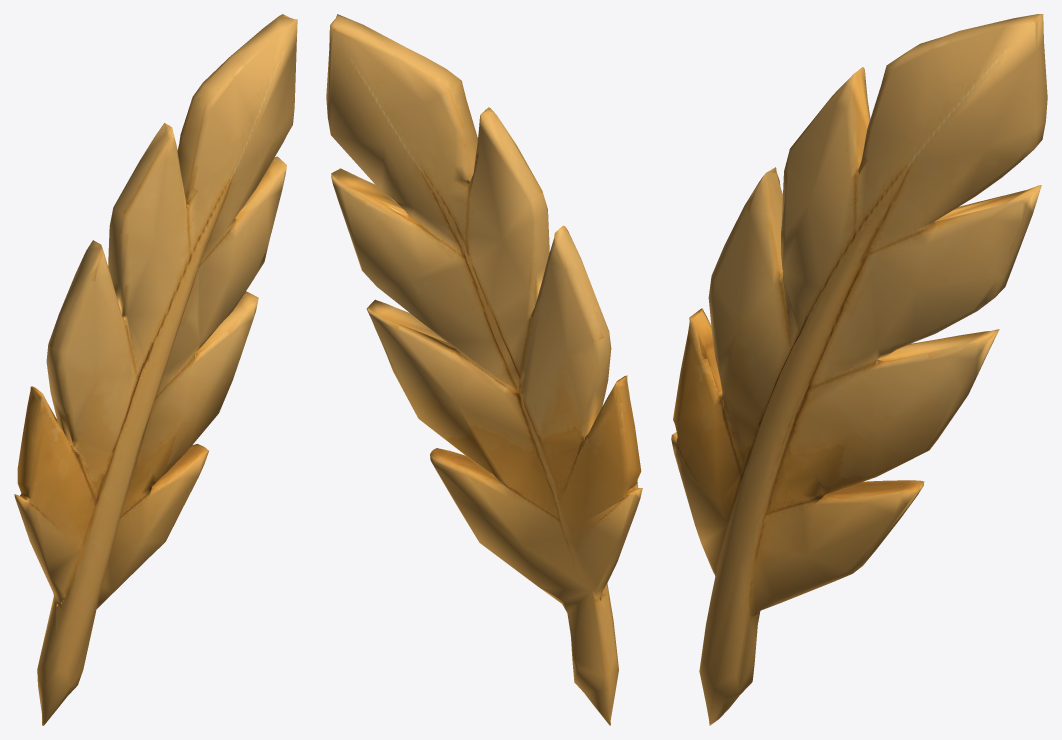
Rendered from lisc.glb.
3 views of the same model, side by side, from view 1: azimuth 30°, elevation 25°; view 2: azimuth 150°, elevation 25°; view 3: azimuth 330°, elevation 25° (orthographic). The views are drawn at different scales.
Visible parts, largest first — view 1: tripo_node_07d2967d-9c3e-4423-b5ef-89c811874c28; view 2: tripo_node_07d2967d-9c3e-4423-b5ef-89c811874c28; view 3: tripo_node_07d2967d-9c3e-4423-b5ef-89c811874c28.
Boxes of the visible parts, box(x1,y1,x2,y2) form: tripo_node_07d2967d-9c3e-4423-b5ef-89c811874c28: box(14, 14, 297, 725); tripo_node_07d2967d-9c3e-4423-b5ef-89c811874c28: box(326, 14, 642, 725); tripo_node_07d2967d-9c3e-4423-b5ef-89c811874c28: box(671, 14, 1047, 725).
Size of the model in its own units: 0.4702 by 0.9957 by 0.1174.
Materials: 1 (1 with a texture image).
